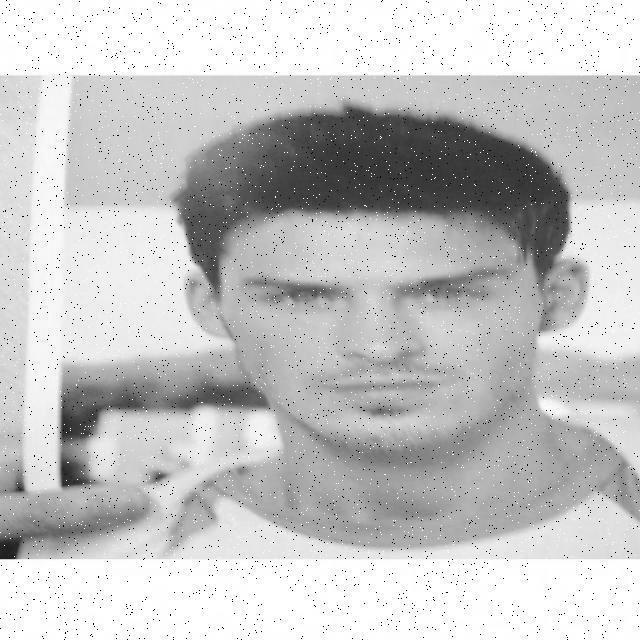fake: (3, 74, 640, 556)
